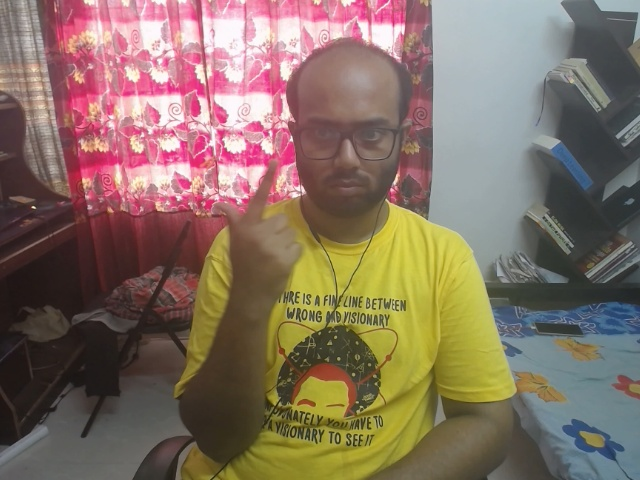seven: (189, 146, 317, 300)
